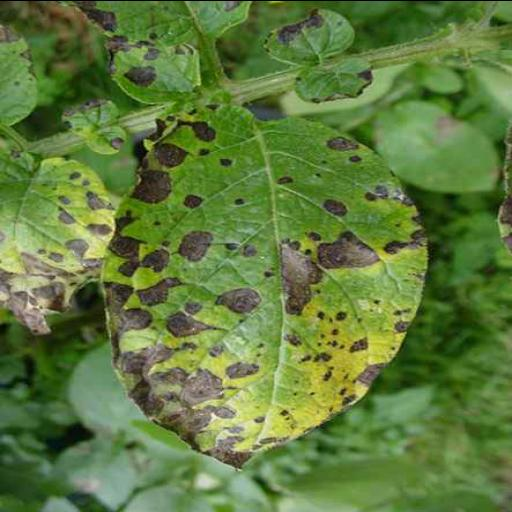Early Blight: (104, 100, 428, 474), (1, 151, 119, 333)
